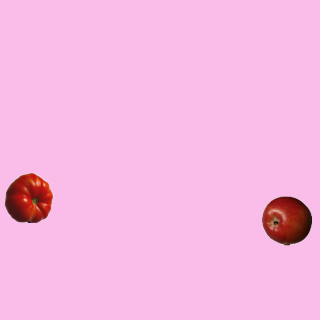Apple Braeburn: (261, 195, 311, 245)
Tomato 3: (3, 172, 53, 222)
